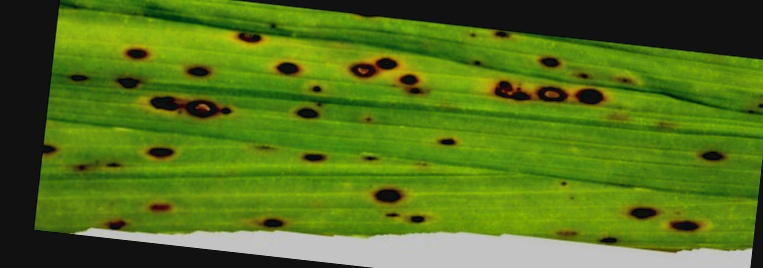Bacterial_Leaf_Blight: (119, 81, 229, 116), (134, 130, 199, 166), (277, 91, 326, 132), (237, 210, 312, 233), (542, 224, 620, 246), (135, 189, 182, 224), (662, 204, 711, 237), (225, 15, 272, 49), (269, 50, 311, 85), (486, 75, 525, 110), (570, 82, 614, 112), (387, 72, 431, 102), (626, 189, 664, 220), (344, 58, 376, 92), (299, 139, 334, 170), (419, 133, 473, 153), (103, 206, 140, 233), (175, 59, 219, 81), (694, 139, 726, 169), (534, 78, 569, 104), (119, 38, 150, 65), (531, 54, 565, 78), (364, 186, 409, 204), (62, 63, 94, 82), (43, 136, 63, 166), (375, 50, 403, 71), (402, 214, 427, 234), (488, 31, 512, 50)
